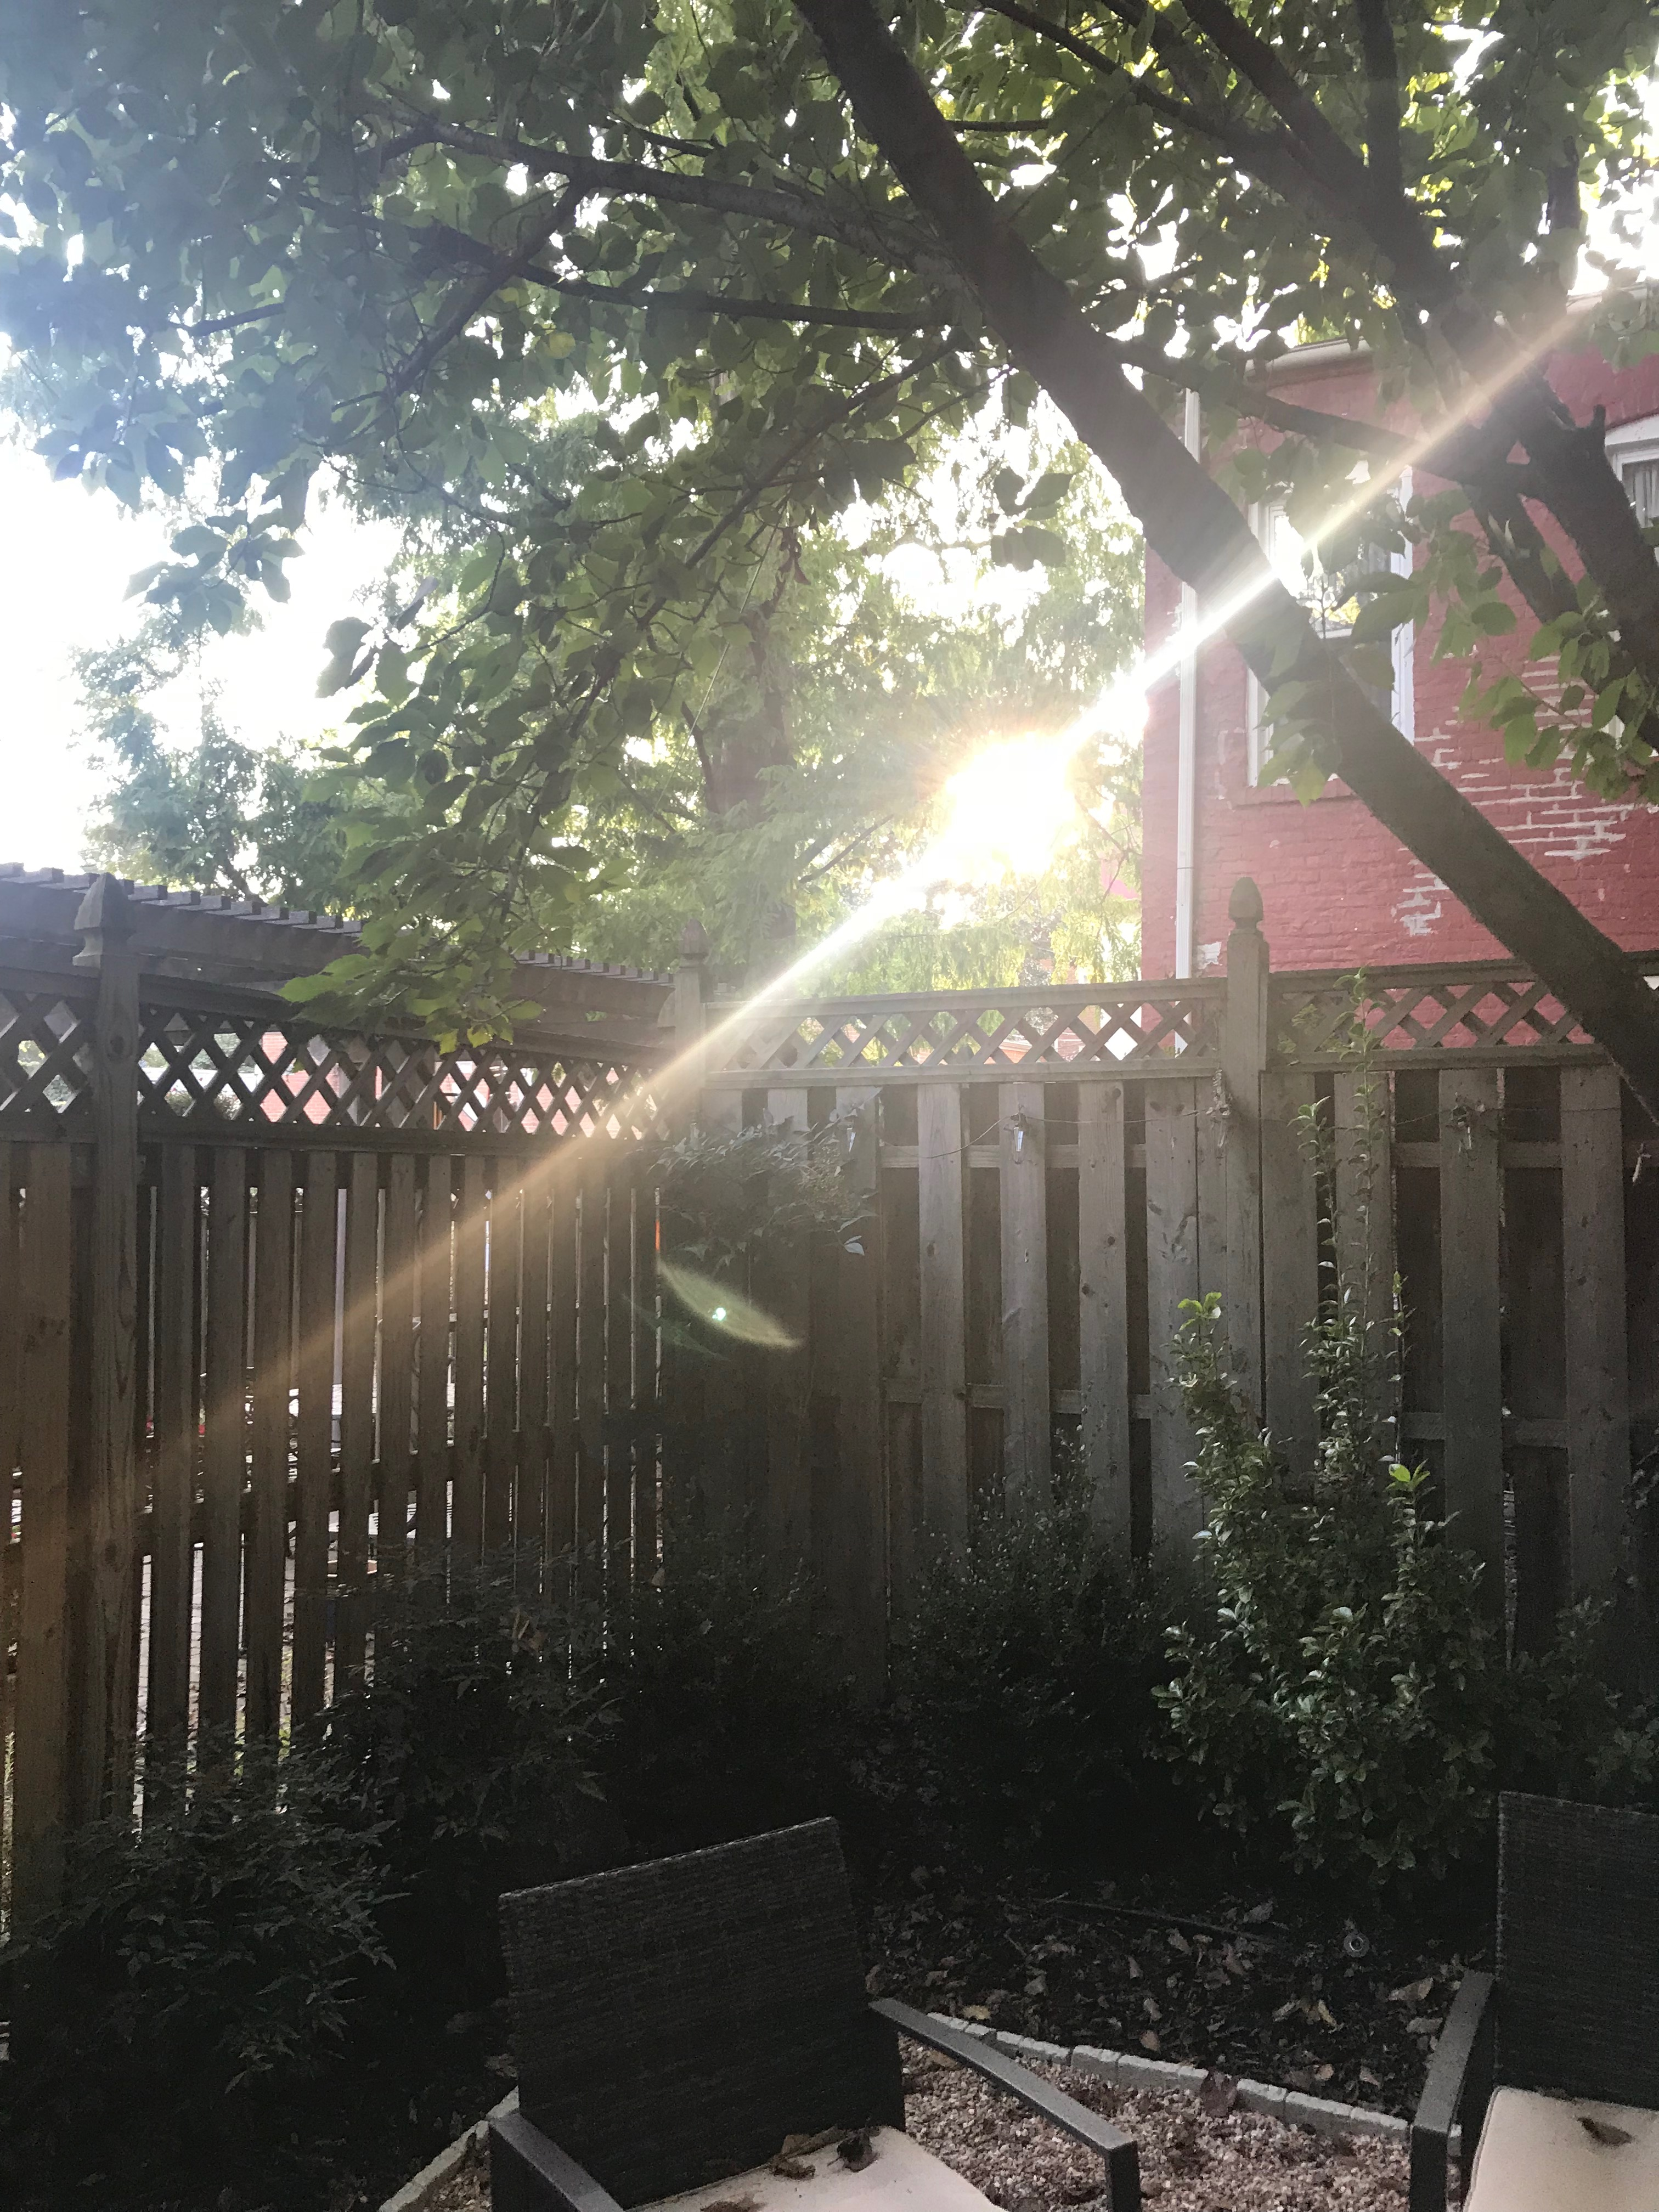flare: (711, 1306, 728, 1322)
